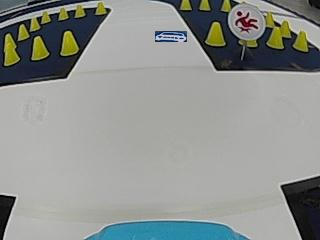cone: (205, 21, 225, 47), (60, 30, 78, 56), (3, 36, 18, 65), (31, 36, 48, 60), (266, 27, 283, 49), (293, 30, 307, 51), (17, 22, 28, 40), (280, 19, 290, 37), (74, 4, 85, 18), (95, 1, 106, 15), (58, 7, 69, 21), (29, 17, 40, 31), (40, 10, 50, 24), (220, 0, 231, 12), (199, 0, 210, 11), (180, 0, 191, 11)
tumble: (231, 6, 263, 37)
